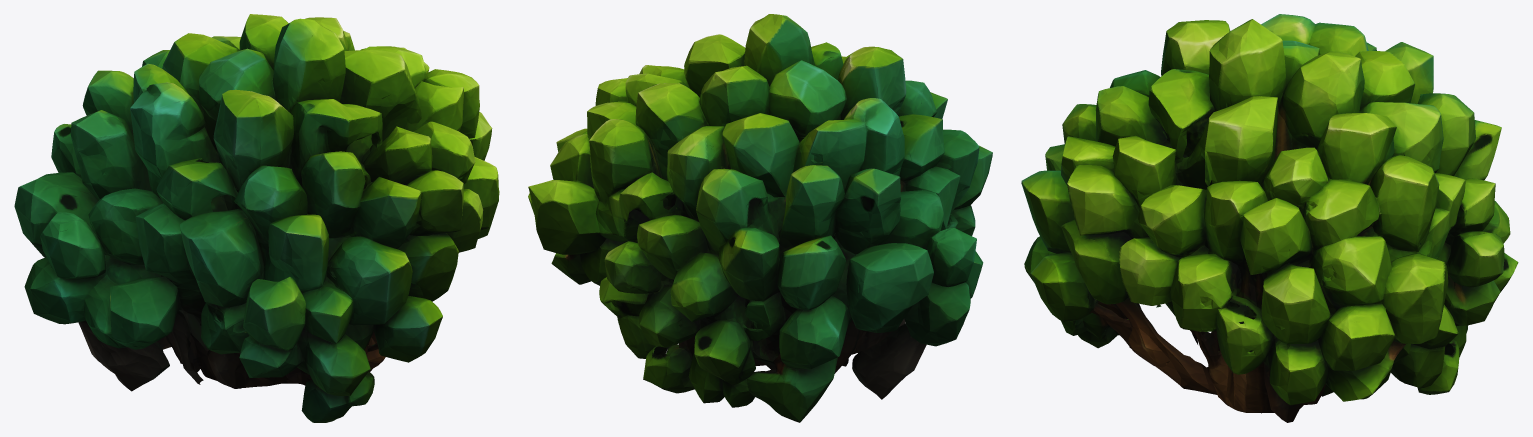
File: bush_1.glb
The picture shows the model from 3 angles, left to right: view 1: azimuth 30°, elevation 25°; view 2: azimuth 150°, elevation 25°; view 3: azimuth 270°, elevation 25°; orthographic projection. The views are drawn at different scales.
Visible parts, largest first — view 1: world; view 2: world; view 3: world.
Boxes of the visible parts, x1,y1,x2,y2 form: world: (14,14,499,422); world: (528,14,992,422); world: (1021,14,1518,422).
Bounding box in the file's own units: 0.9651 × 0.7301 × 0.8866.
1 material, 1 textured.
